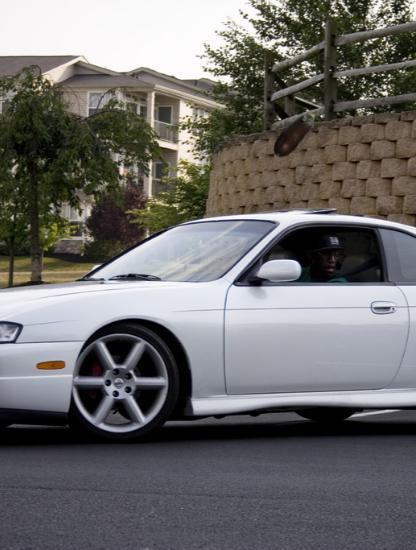Eggplant: (265, 103, 326, 164)
